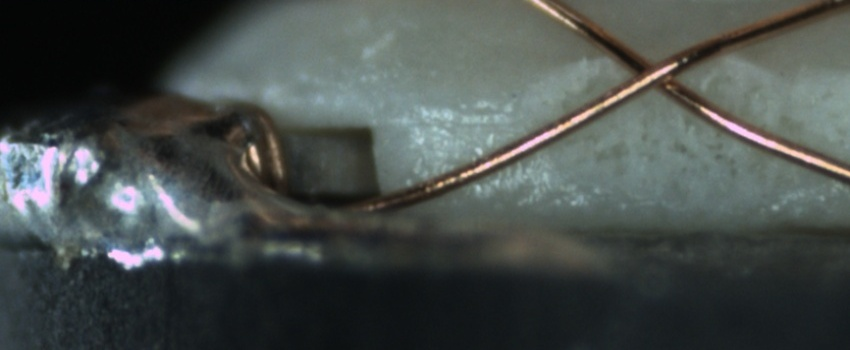CL: (608, 38, 704, 106)
DL: (407, 93, 527, 147)
TE: (207, 96, 300, 206)
